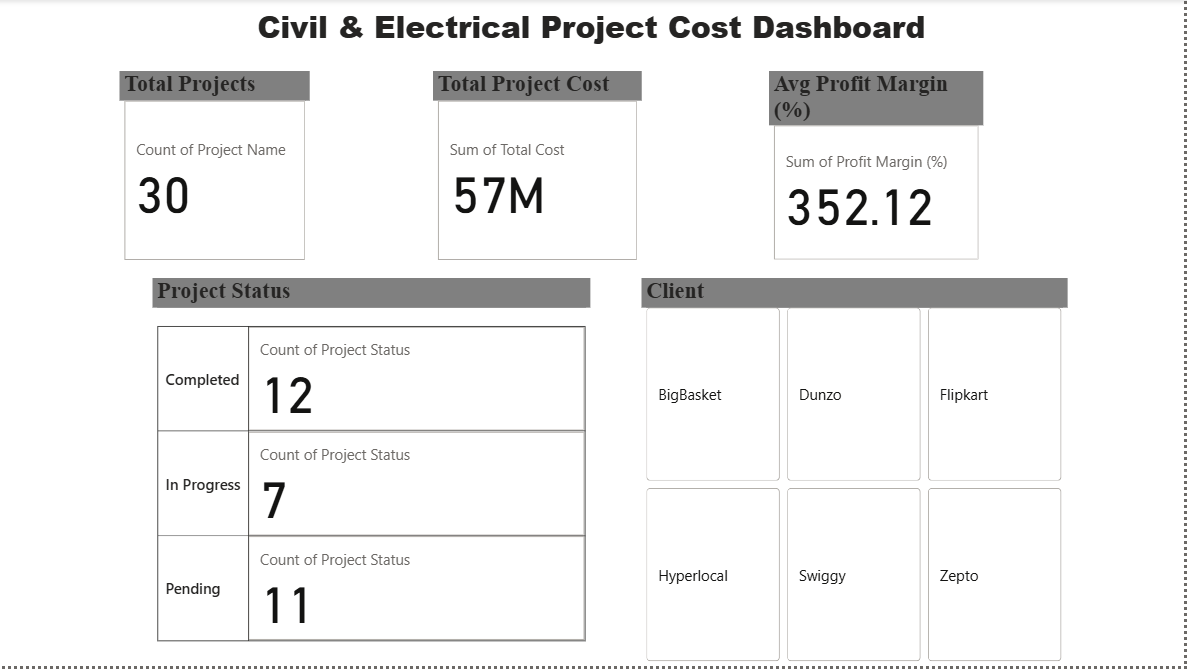

The dashboard page shown, as its layout file describes it:
{"tool":"powerbi","page":{"name":"Page 1","canvas":[1280,720],"ordinal":0},"visuals":[{"type":"cardVisual","title":"Total Project Cost","fields":{"Data":["Sum(cleaned_warehouse_projects.Total Cost)"]},"box":[469.6,77.7,225.1,208.9],"z":0},{"type":"cardVisual","title":"Avg Profit Margin (%)","fields":{"Data":["Sum(cleaned_warehouse_projects.Profit Margin (%))"]},"box":[832.3,77.7,231.5,208.9],"z":1000},{"type":"textbox","box":[47,1.6,1186.9,76.1],"z":2000},{"type":"cardVisual","title":"Total Projects","fields":{"Data":["CountNonNull(cleaned_warehouse_projects.Project Name)"]},"box":[131.2,77.7,205.6,208.9],"z":3000},{"type":"cardVisual","title":"Project Status","fields":{"Data":["CountNonNull(cleaned_warehouse_projects.Project Status)"],"Rows":["cleaned_warehouse_projects.Project Status"]},"box":[166.8,301.2,472.8,419.4],"z":4000},{"type":"advancedSlicerVisual","fields":{"Values":["cleaned_warehouse_projects.Client"]},"box":[694.6,301.2,459.9,419.4],"z":4001}]}

Visuals, with their boxes in screenshot pixels (x1, y1, x2, y2), scaled from the page's 1280x720 canvas onto the 1187x669 screenshot:
"Total Project Cost" cardVisual: region(435, 72, 644, 266)
"Avg Profit Margin (%)" cardVisual: region(772, 72, 987, 266)
textbox: region(44, 1, 1144, 72)
"Total Projects" cardVisual: region(122, 72, 312, 266)
"Project Status" cardVisual: region(155, 280, 593, 668)
advancedSlicerVisual - cleaned_warehouse_projects.Client: region(644, 280, 1071, 668)
